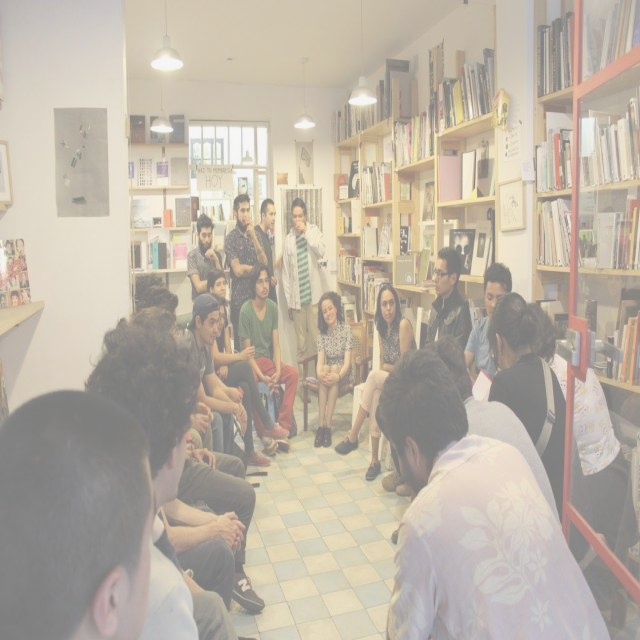pessoa: (0, 274, 197, 640), (487, 291, 594, 565), (423, 334, 564, 536), (422, 340, 562, 534), (526, 323, 640, 559), (380, 244, 474, 497), (196, 398, 268, 639), (333, 282, 418, 482), (206, 267, 290, 467), (236, 257, 300, 457), (182, 292, 248, 458), (186, 290, 247, 457), (281, 196, 327, 404), (312, 288, 359, 451), (224, 191, 268, 355), (462, 261, 514, 389), (253, 196, 283, 363), (187, 212, 224, 304)
